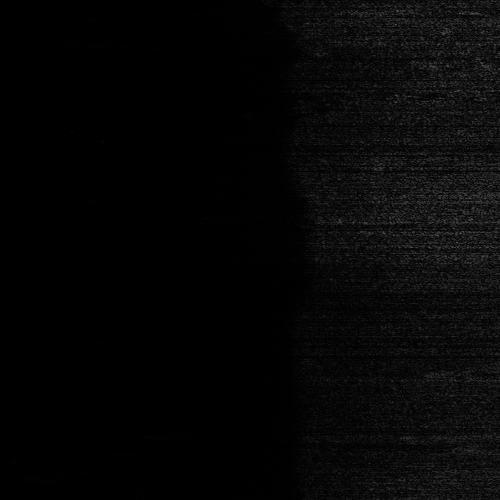object: (453, 442, 500, 447)
shadow: (485, 442, 500, 447)
